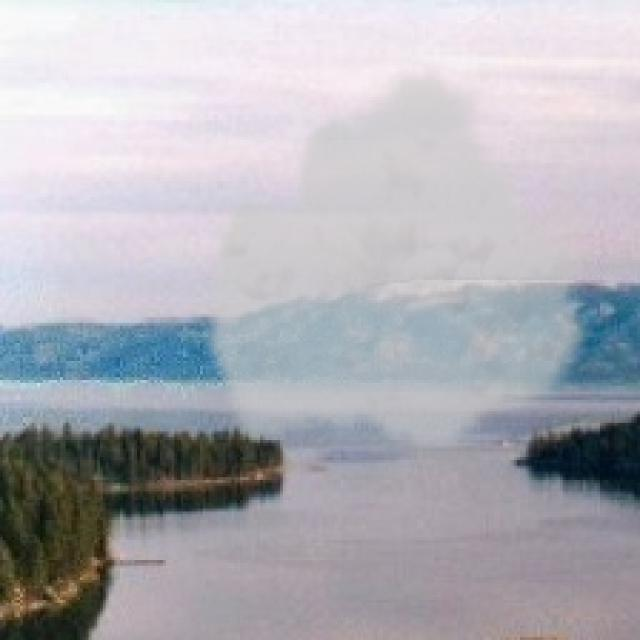smoke: (200, 57, 597, 454)
